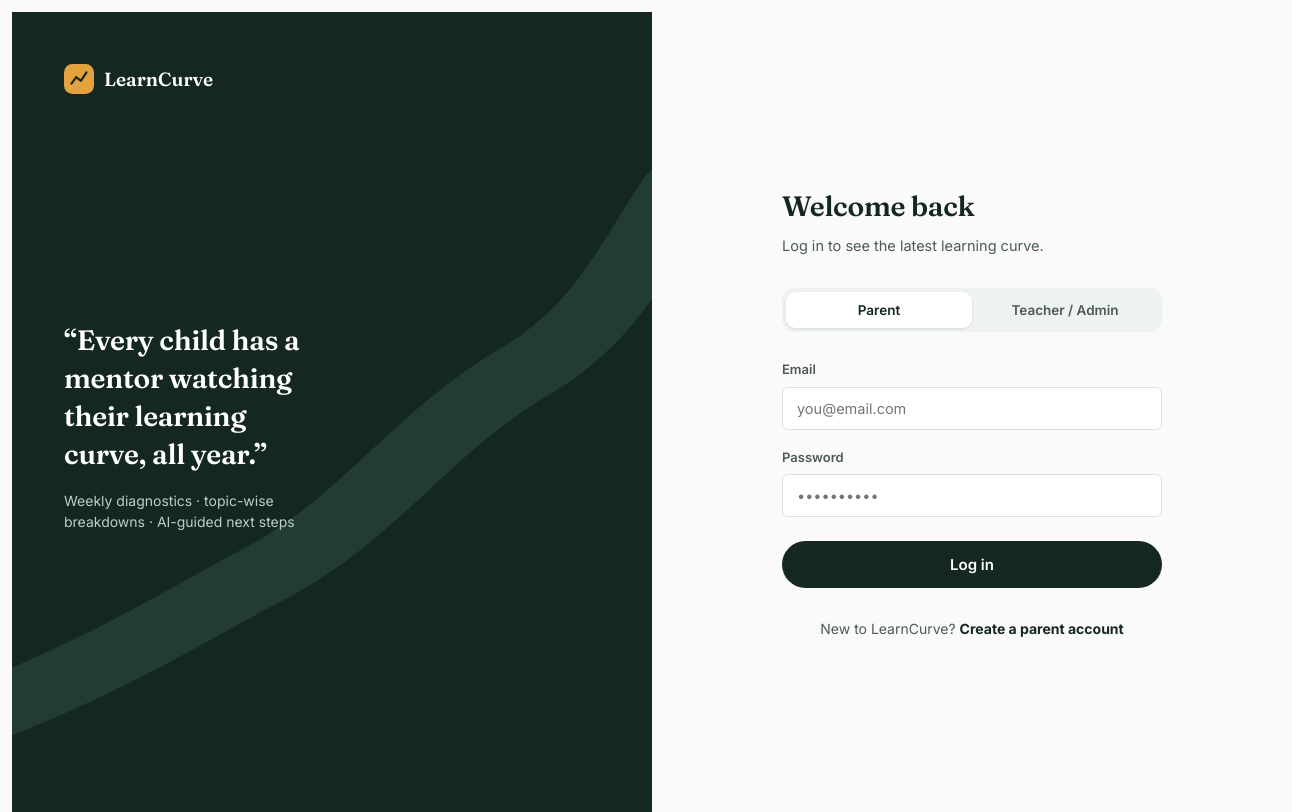
Scenario: auth flows › hides the register link on the Teacher / Admin tab
expect the link "Create a parent account" is shown: met, box [960,620,1124,637]
Click the button "Teacher / Admin": click(1065, 310) [972,292,1158,328]
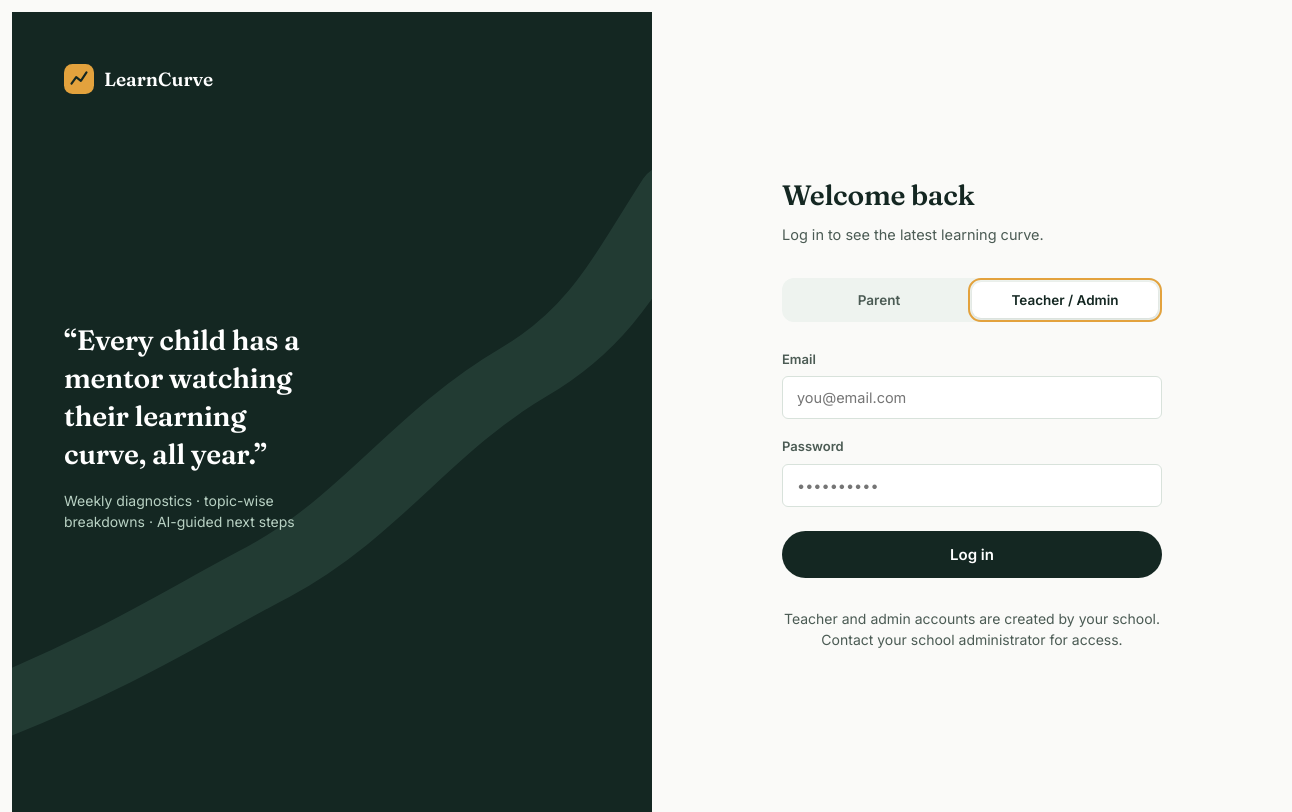
expect the link "Create a parent account" is gone: met
expect the text "created by your school" is shown: met, box [784,610,1160,648]
